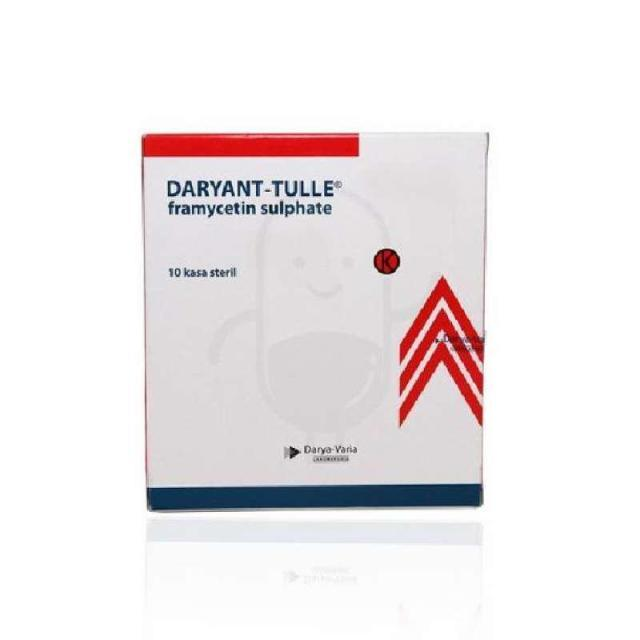drug-name: (166, 176, 342, 198)
